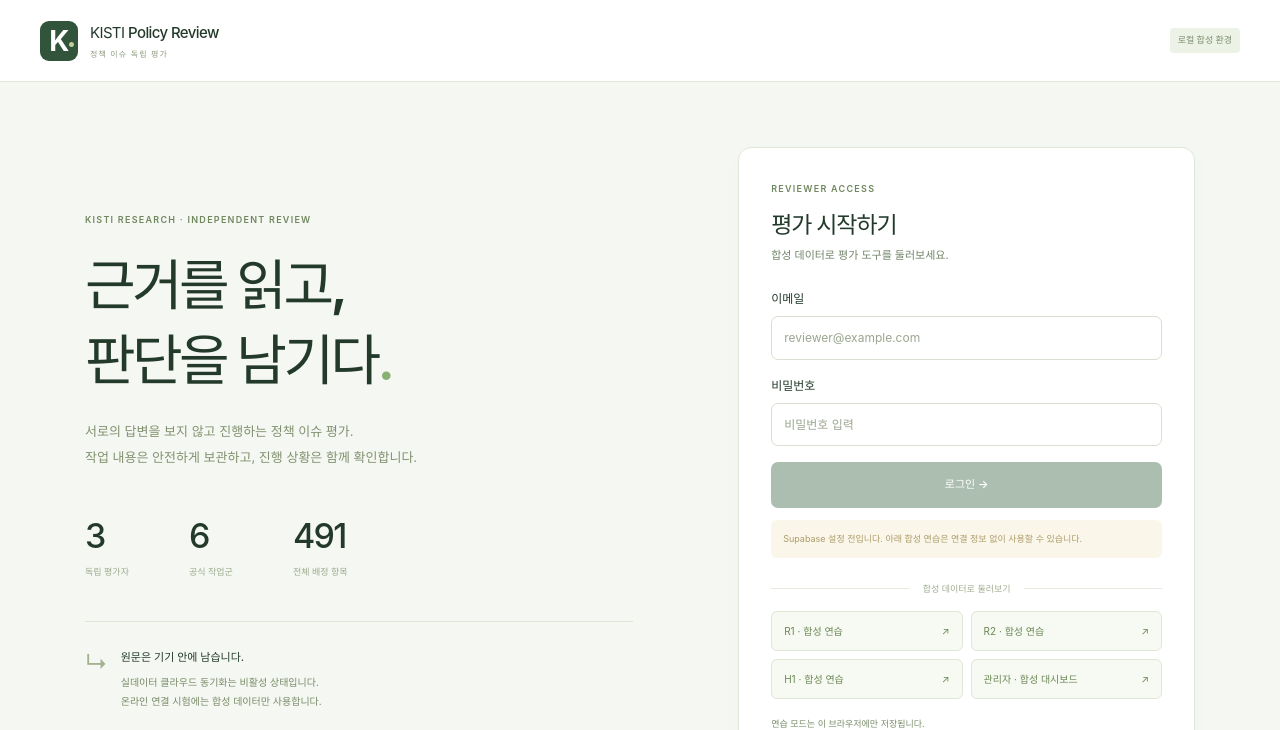
Test: real UI with local synthetic persistence › gives member two separate thirds of all three main review groups
The width and height of the screenshot is (1280, 730).
Click the button "R2 · 합성 연습 ↗" at x=1066, y=631, box [971,611,1162,651]
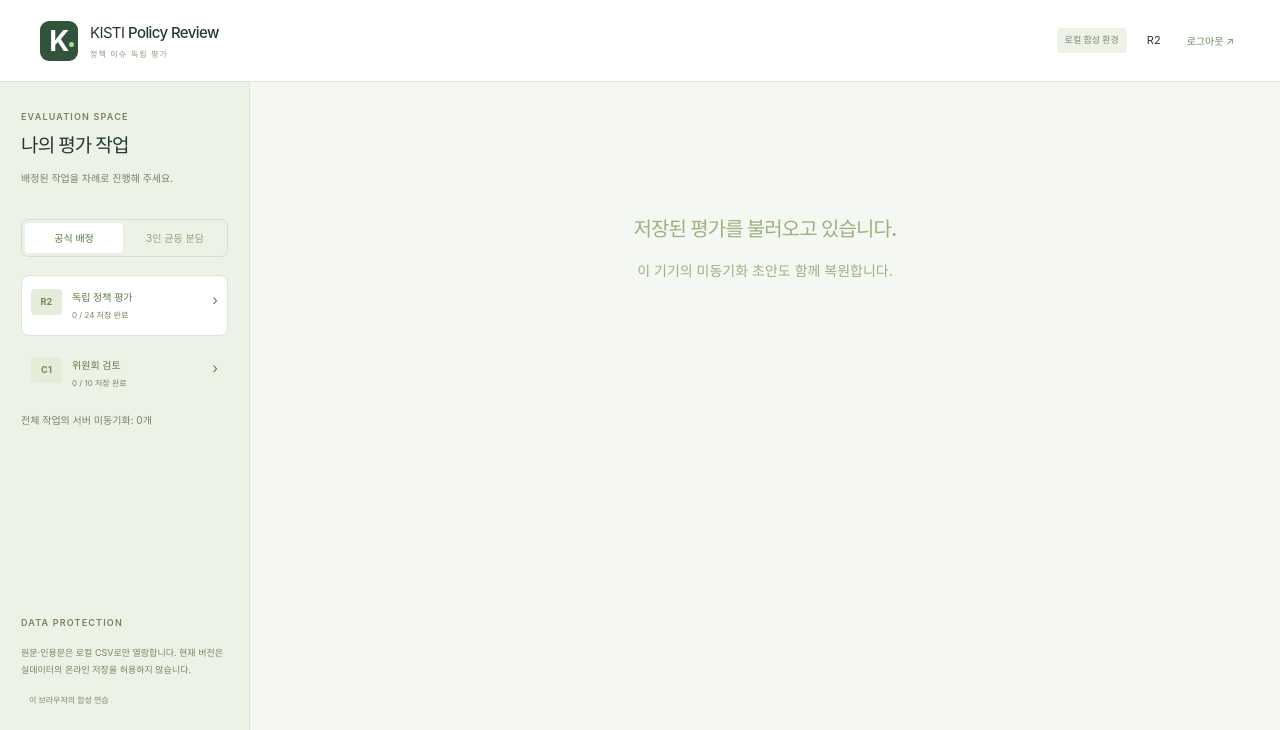
Click the button "3인 균등 분담" at x=175, y=238, box [126,223,224,253]
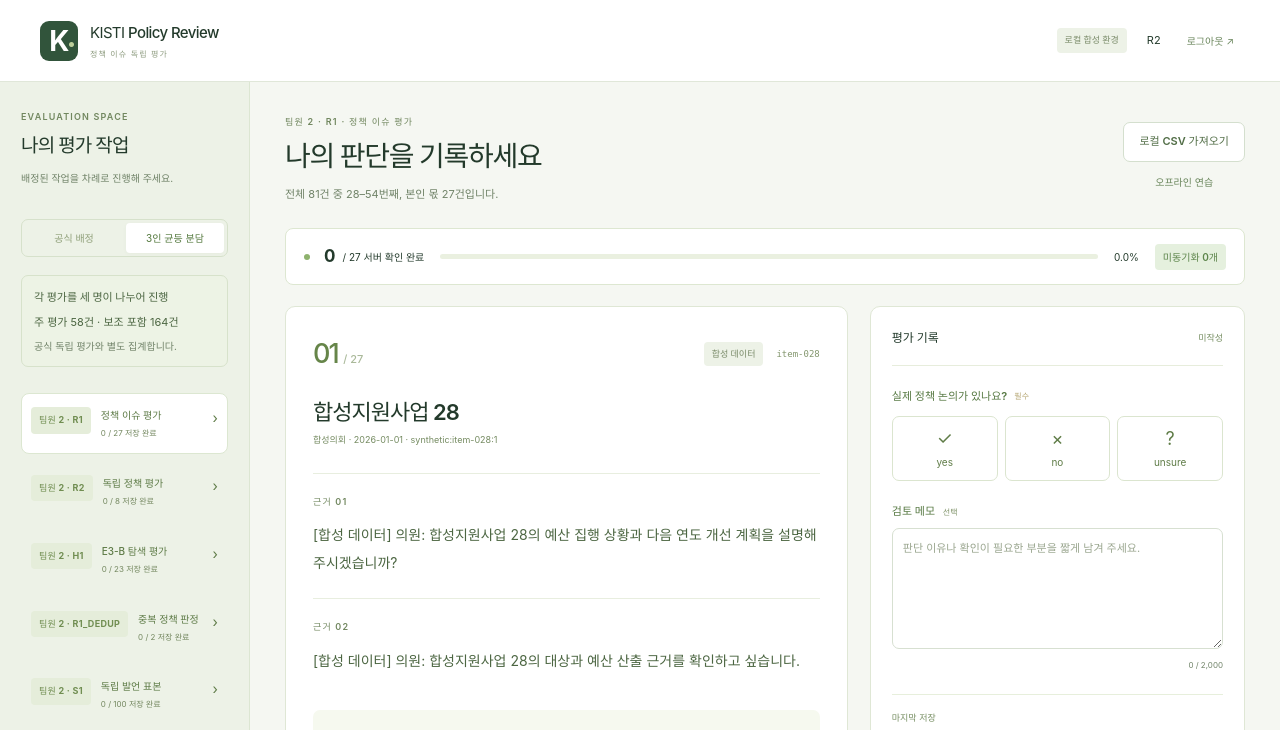
Result: the heading "합성지원사업 28" is shown at [313,398,459,424]
Result: the button "팀원 2 · R1 정책 이슈 평가 0 / 27 저장 완료 ›" is shown at [21,393,228,454]
Click the button "팀원 2 · R2 독립 정책 평가 0 / 8 저장 완료 ›" at x=124, y=492, box [21,461,228,522]
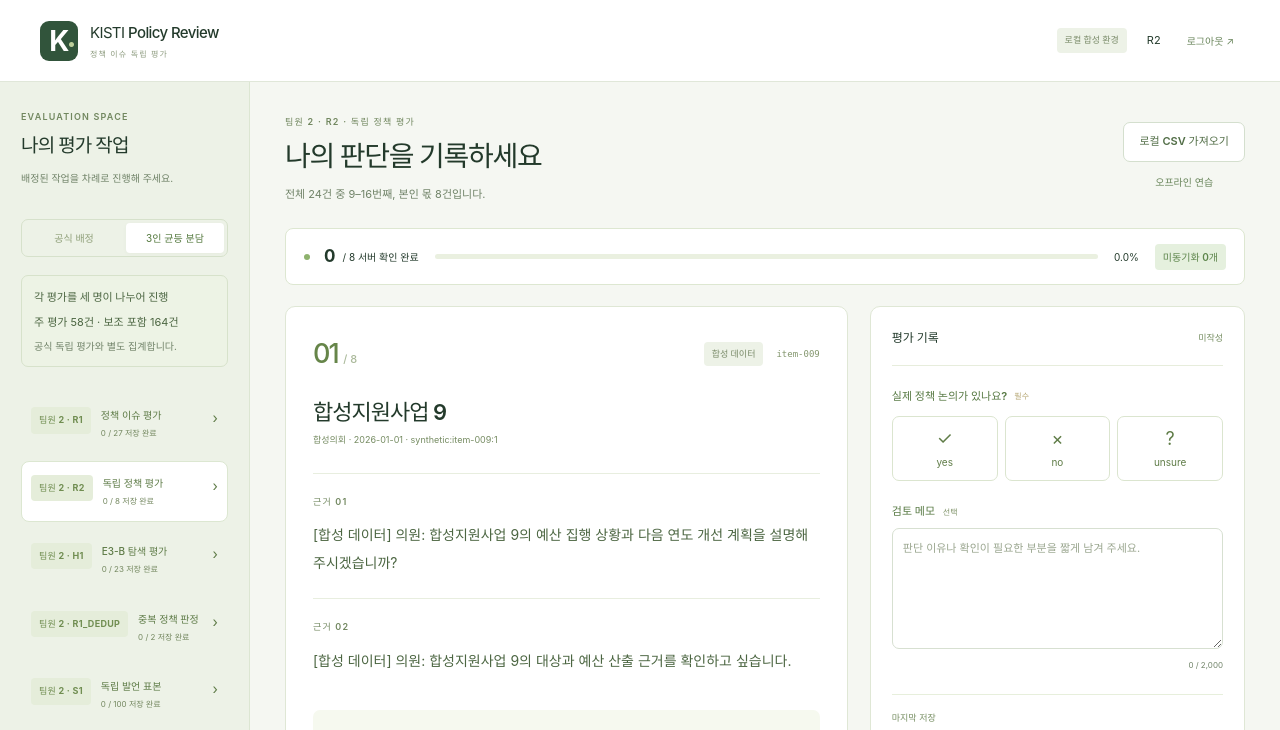
Result: the heading "합성지원사업 9" is shown at [313,398,446,424]
Click the button "팀원 2 · H1 E3-B 탐색 평가 0 / 23 저장 완료 ›" at x=124, y=559, box [21,529,228,590]
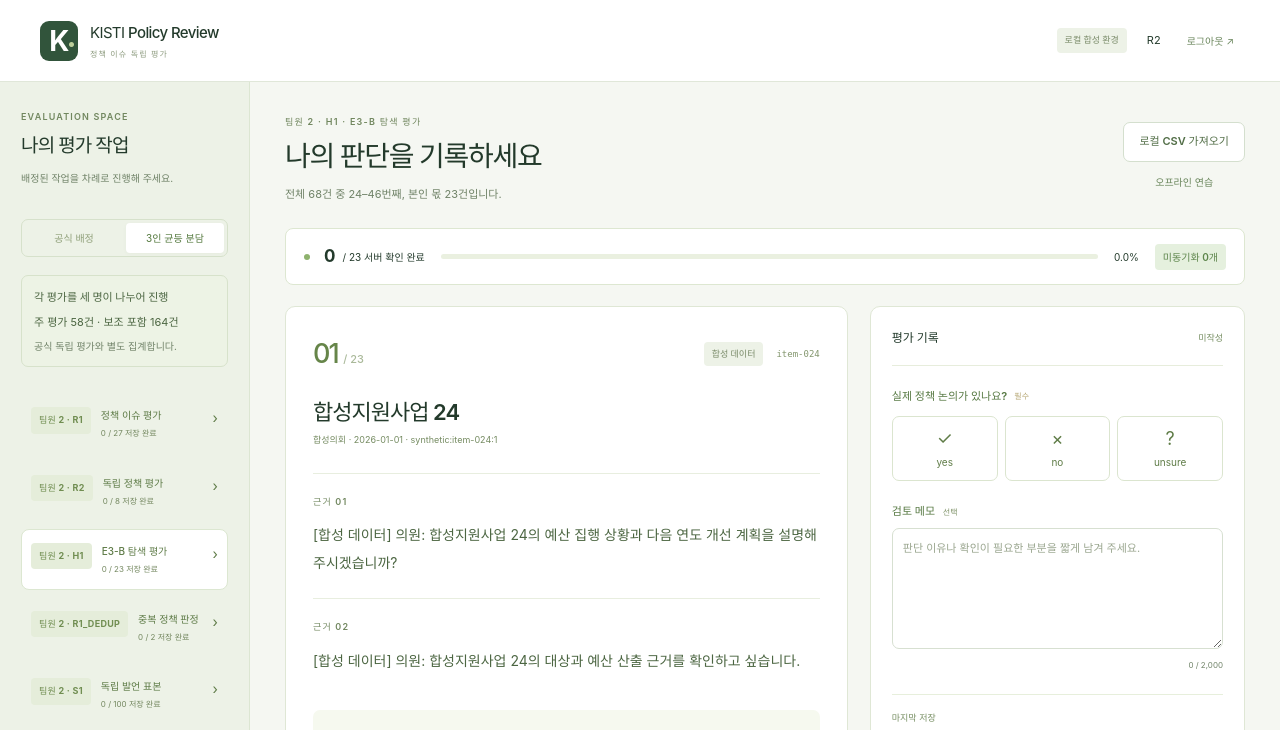
Result: the text "주 평가 58건 · 보조 포함 164건" is shown at [34,315,179,329]
Result: the heading "합성지원사업 24" is shown at [313,398,459,424]
